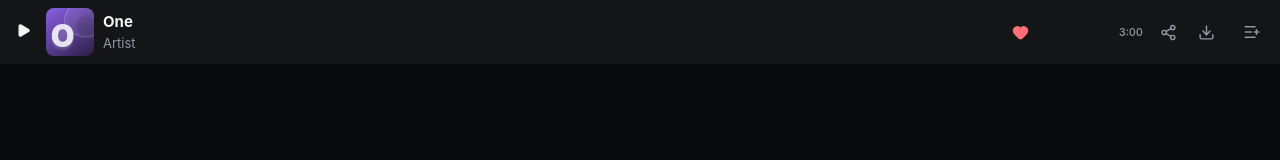
Test: player like controls › uses the same API-backed liked state in track rows
What coordinates should you click on to do the following:
click the button named "Убрать лайк"
I would click on:
 (1021, 32)
Its box is [1004,15,1038,49].
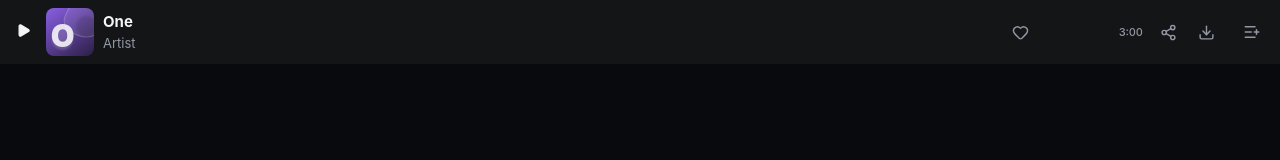
Expected: the button named "Включить One" is shown, [9,16,37,48]
Expected: the button named "Поставить лайк" is shown, [1004,15,1038,49]
